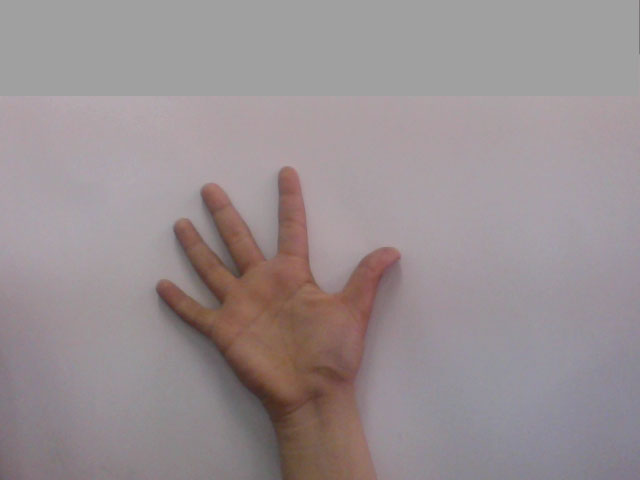hand: (148, 154, 411, 386)
